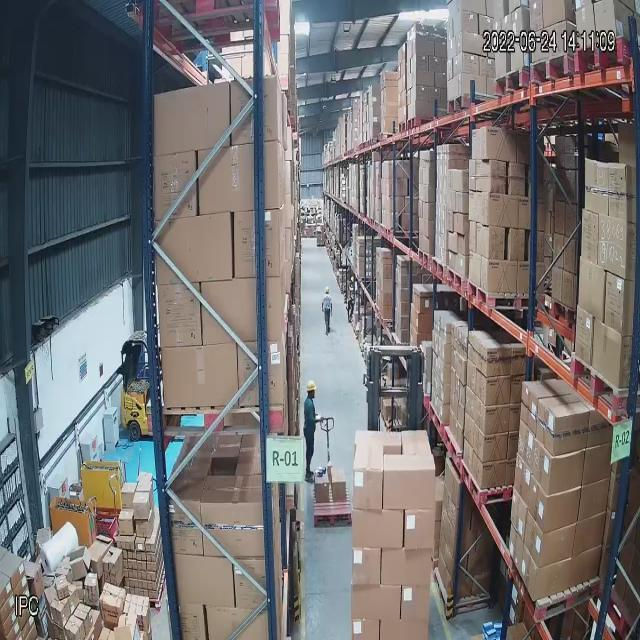box: (114, 328, 153, 434), (515, 490, 576, 554), (532, 440, 584, 493), (537, 401, 590, 449), (484, 374, 510, 406), (485, 350, 512, 376), (485, 409, 509, 431), (483, 439, 507, 461), (482, 466, 507, 487)
